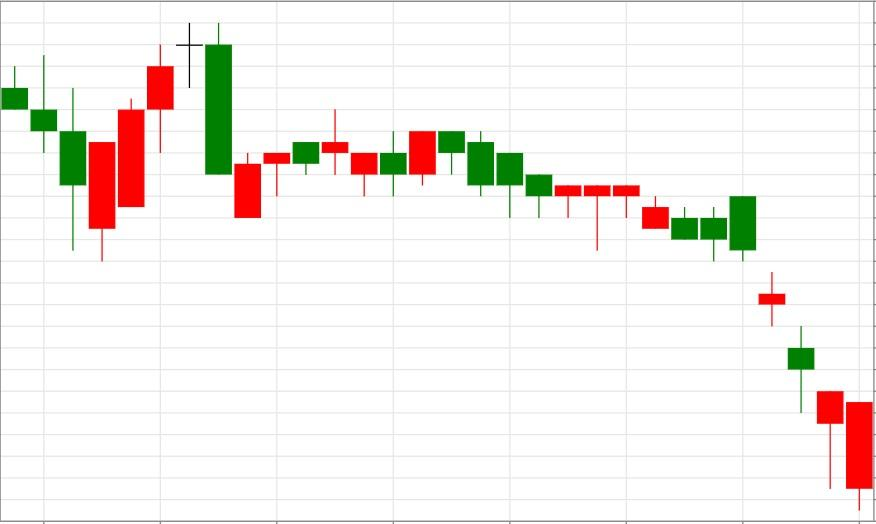evening_star_fall: (88, 22, 233, 261)
